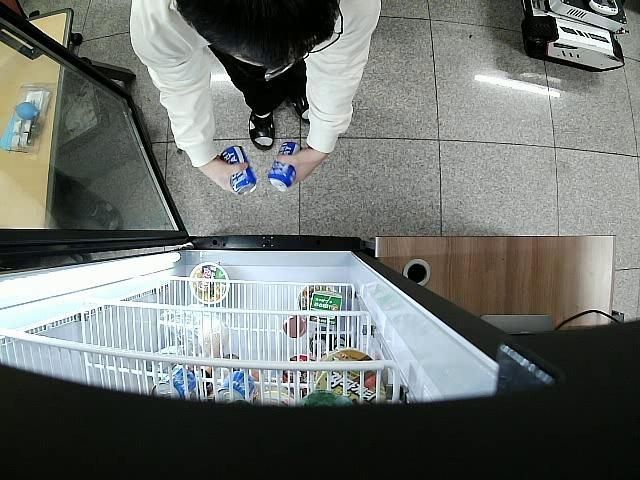13_pocariSweat: (220, 146, 256, 196), (270, 142, 297, 188)
